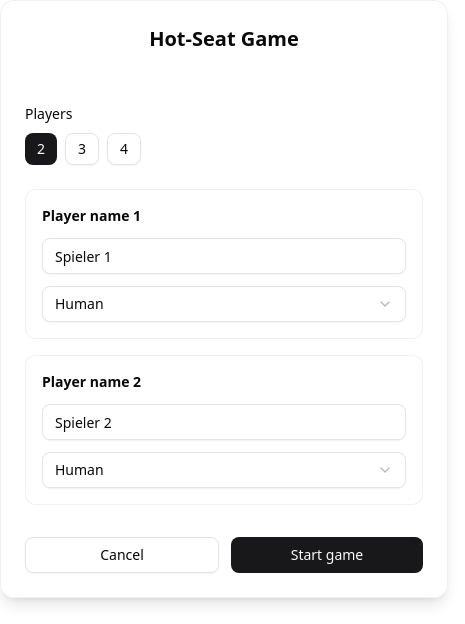
Test: HotSeatSetup › disables start button when a name is empty
Clear the field labelled "Player name 1": [224, 256] box [42,238,406,274]
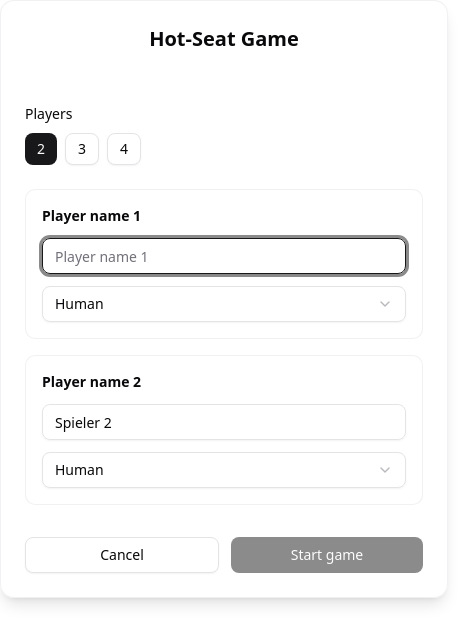
Expected: the button "Start game" is disabled, [231,537,423,573]
